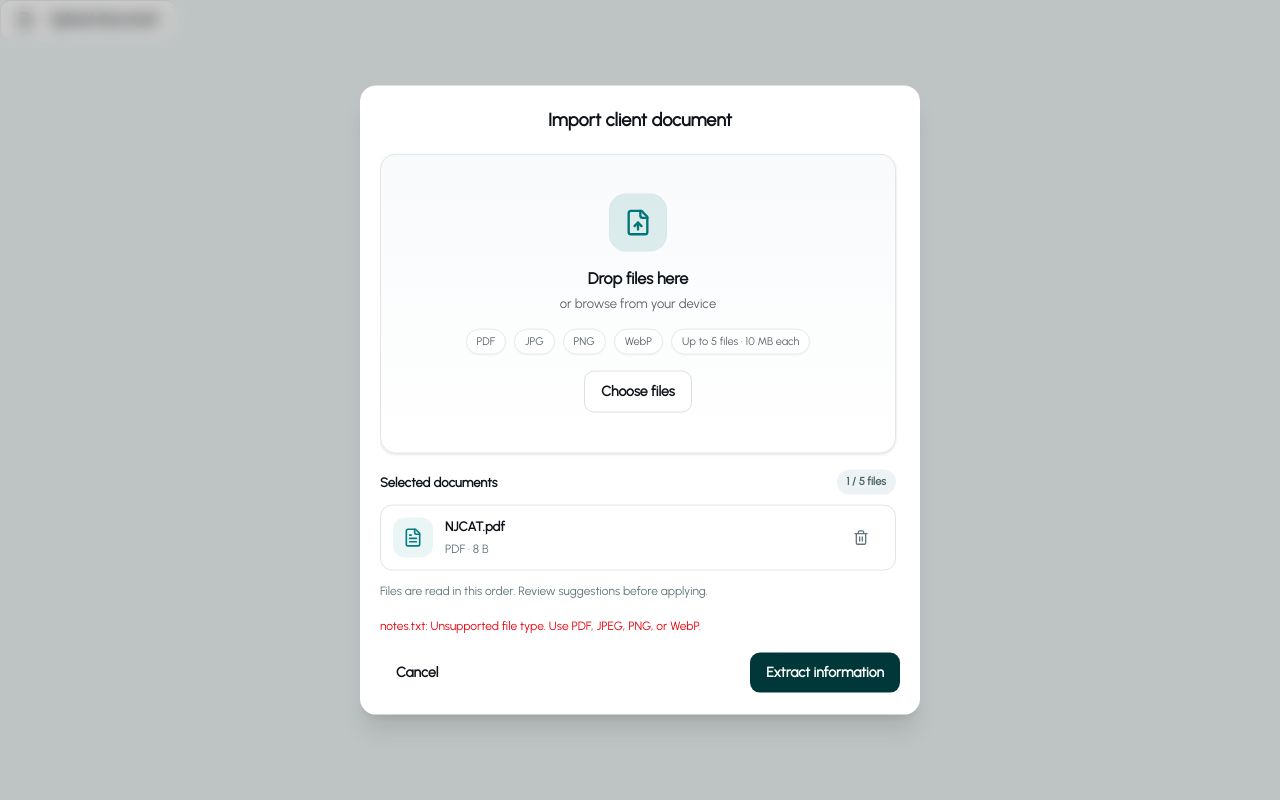
Scenario: multiple-file selection keeps valid files, rejects invalid files and allows removing a selected original
The width and height of the screenshot is (1280, 800).
Earlier steps of the test are not shown.
Expected: the text "NJCAT.pdf" is shown once, [445,518,505,533]
Expected: the message shows "notes.txt", [380,618,701,632]
Click the button named "Remove selected NJCAT.pdf".
click(861, 537)  # box [839,515,883,559]
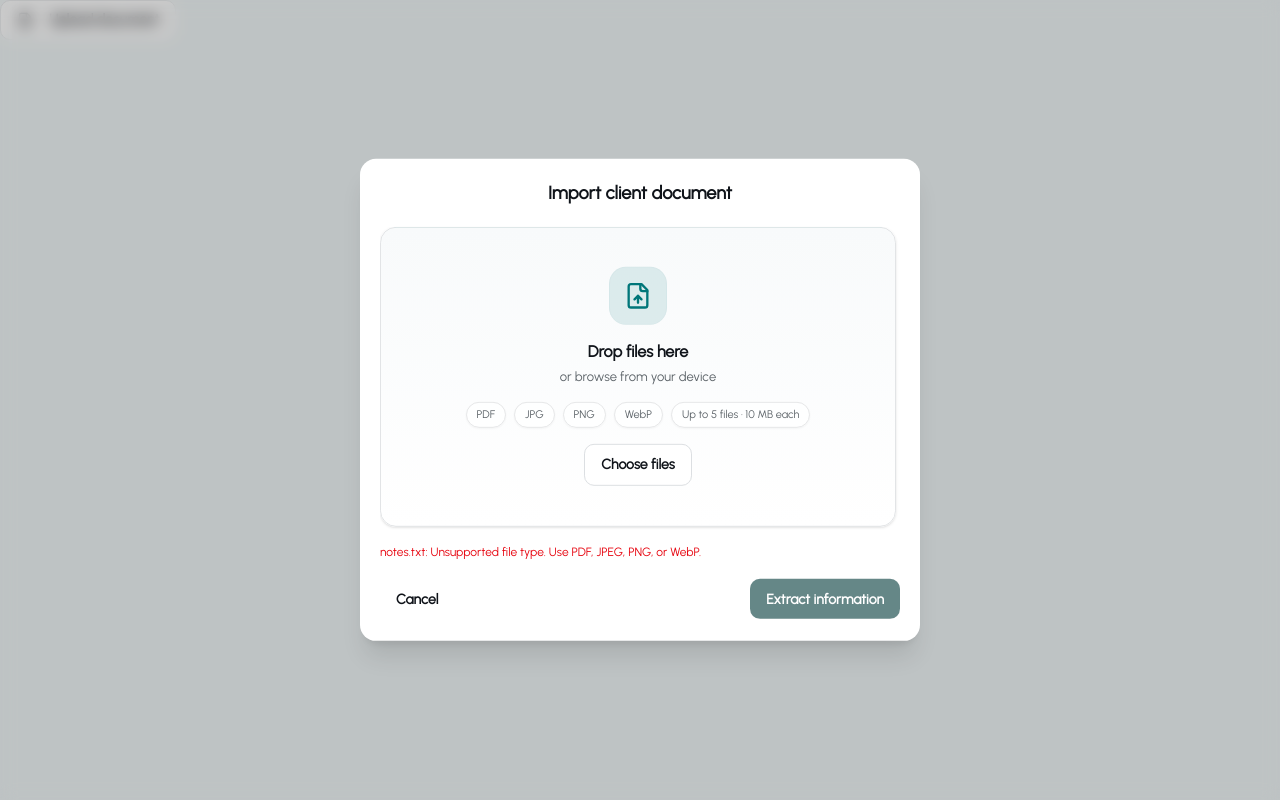
Now the text "NJCAT.pdf" is gone
Now the button "Extract information" is disabled, box [750,579,900,619]
